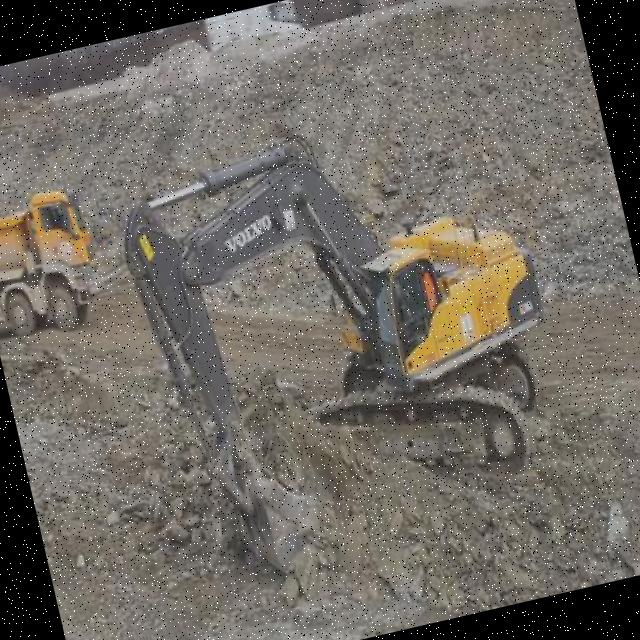Dump Truck: (0, 177, 115, 350)
Excavator: (104, 81, 594, 603)
